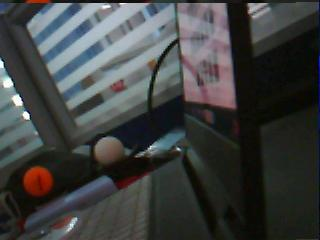oball: (24, 166, 52, 194)
